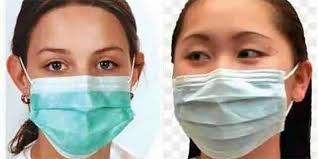surgical: (170, 68, 293, 159), (22, 77, 143, 159)
